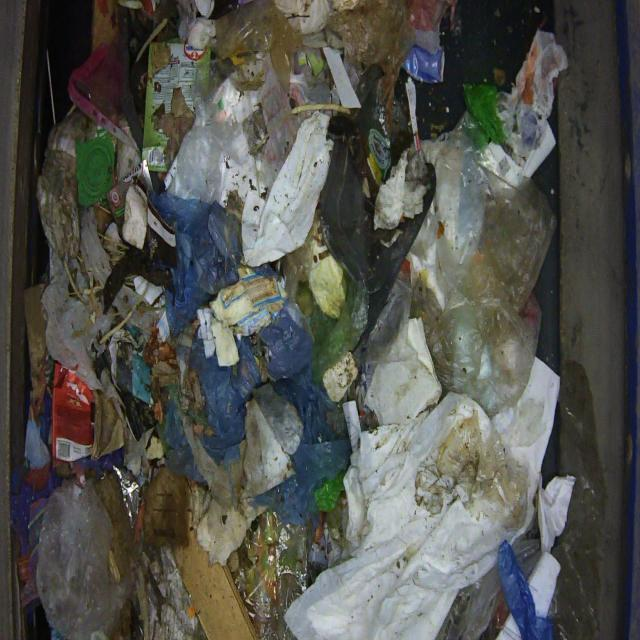other-trash: (26, 0, 570, 638)
